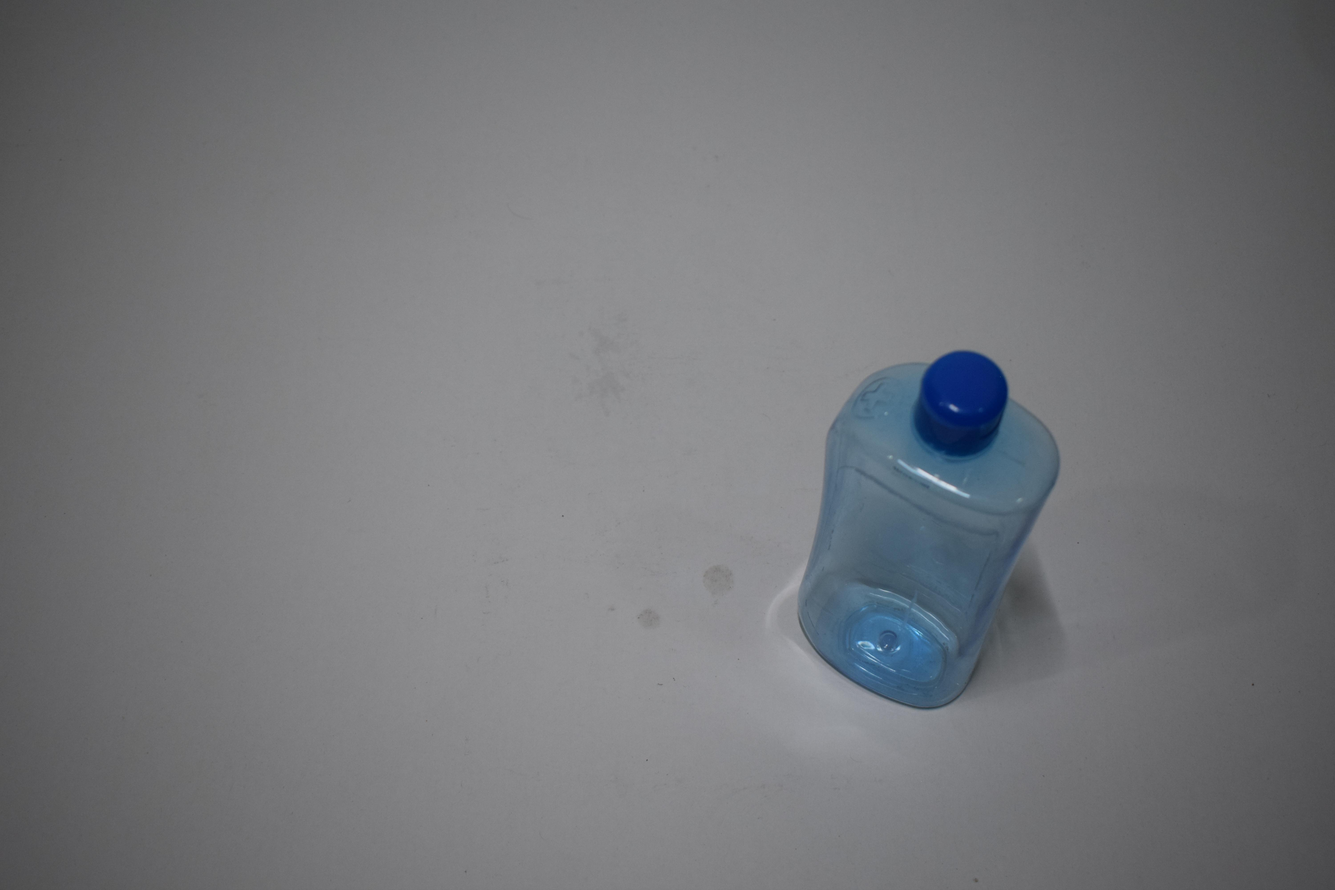plastic: (797, 352, 1064, 714)
